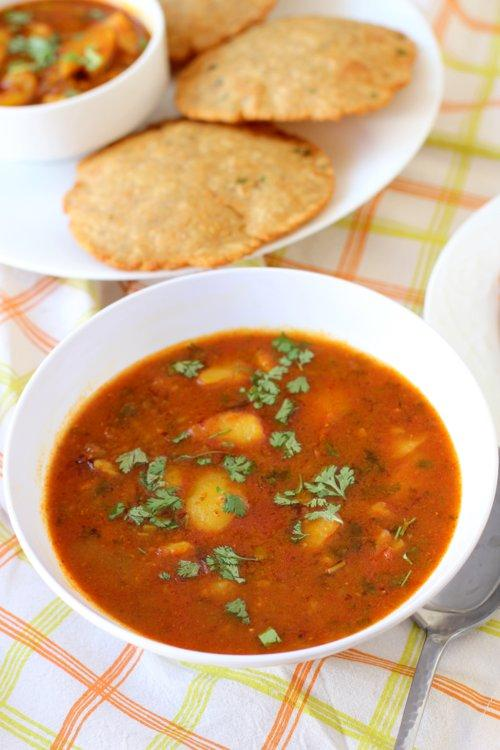aloo sabji: (75, 335, 445, 634), (0, 0, 141, 97)
